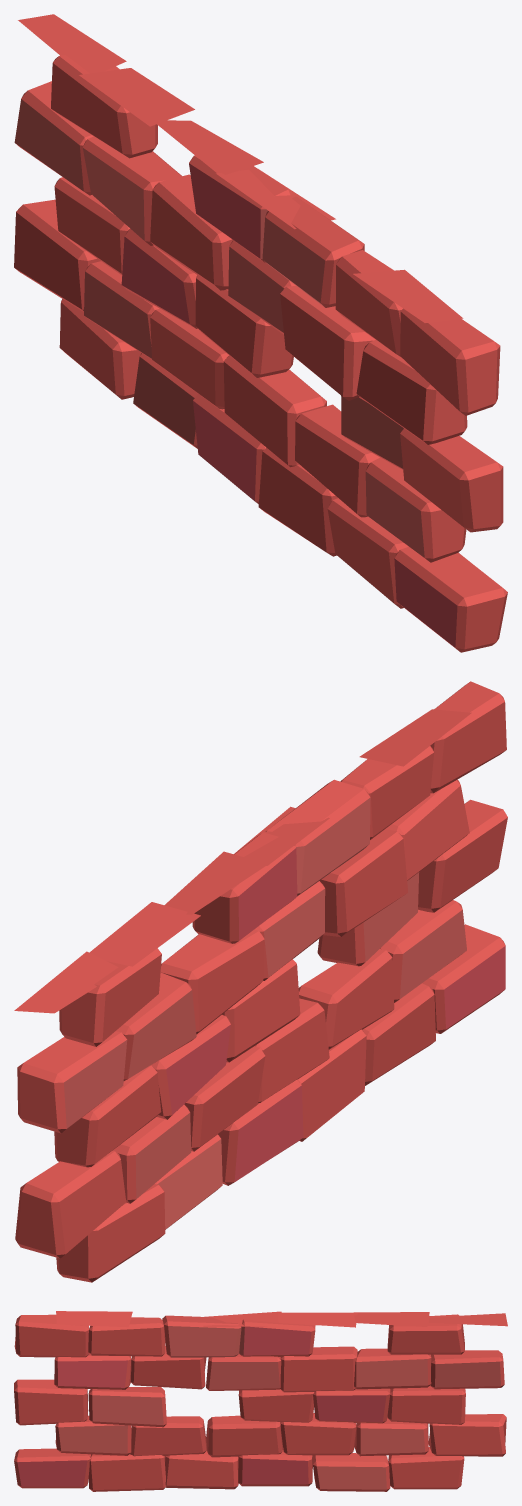
File: wallbottom.fbx
The picture shows the model from 3 angles, top to bottom: view 1: azimuth 30°, elevation 25°; view 2: azimuth 150°, elevation 25°; view 3: azimuth 270°, elevation 25°; orthographic projection. The views are drawn at different scales.
Parts seen in each view (by area): view 1: WallBottom; view 2: WallBottom; view 3: WallBottom.
Boxes of the visible parts, x1,y1,x2,y2 form: WallBottom: [14, 14, 507, 652]; WallBottom: [14, 681, 507, 1282]; WallBottom: [14, 1311, 507, 1491].
Size of the model in its own units: 116 by 503 by 1324.
